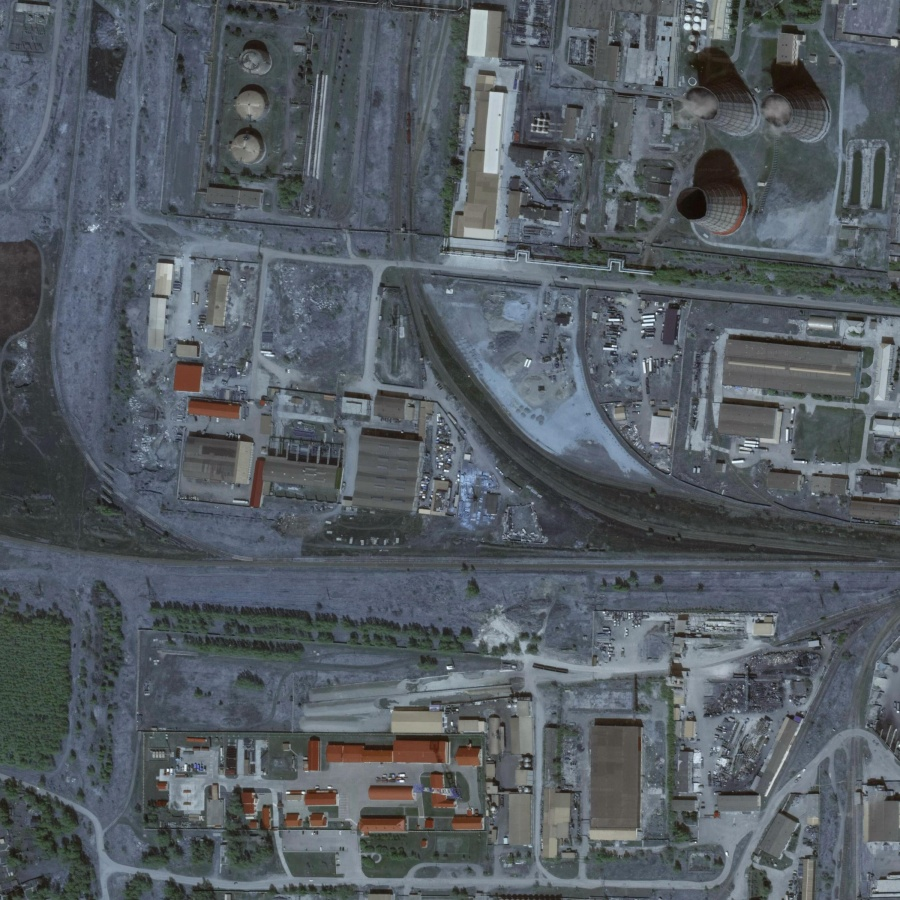PowerPlant: (668, 18, 857, 273)
